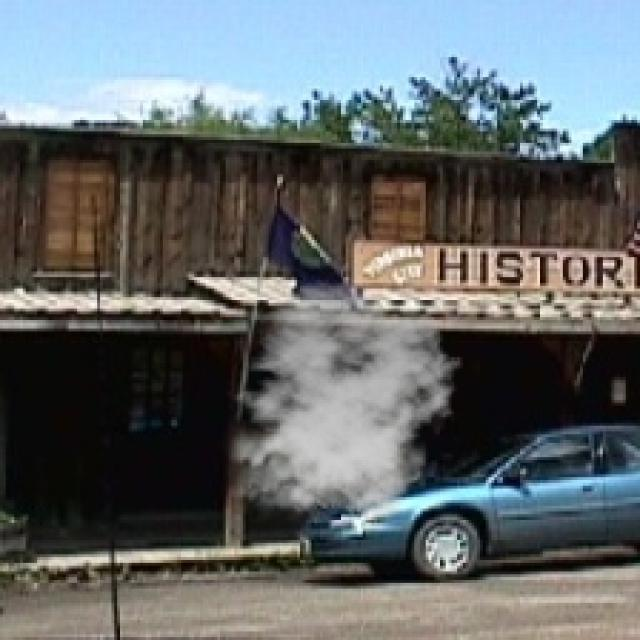Smoke: (217, 280, 463, 529)
